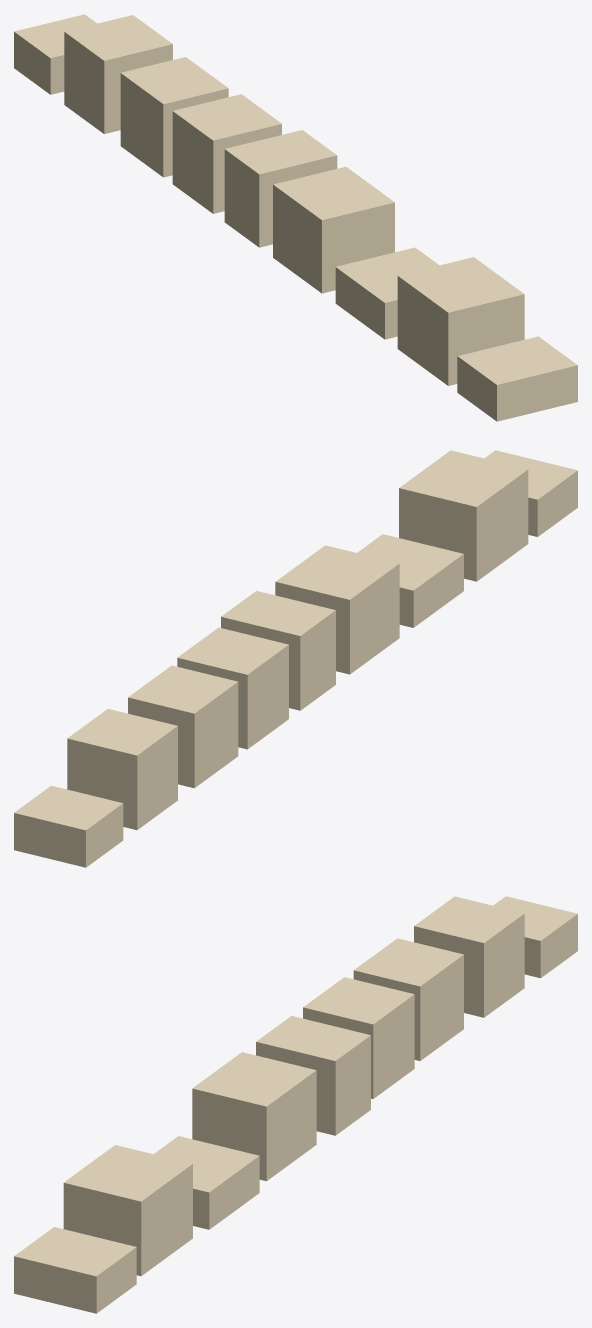
File: HouseWallsW.fbx
3 views of the same model, one above another, from view 1: azimuth 30°, elevation 25°; view 2: azimuth 150°, elevation 25°; view 3: azimuth 330°, elevation 25° (orthographic).
Visible parts, largest first — view 1: HouseWallW0.001; view 2: HouseWallW0.001; view 3: HouseWallW0.001.
Boxes of the visible parts, box(x1,y1,x2,y2) form: HouseWallW0.001: box(14, 14, 577, 421); HouseWallW0.001: box(14, 450, 577, 867); HouseWallW0.001: box(14, 896, 577, 1313).
Bounding box in the file's own units: 1966 × 1700 × 20300.
